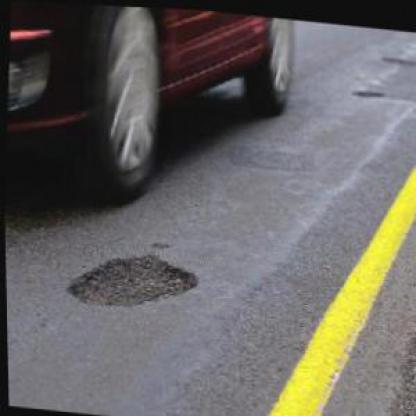pothole: (65, 241, 200, 312), (351, 80, 387, 96), (151, 236, 171, 248)
